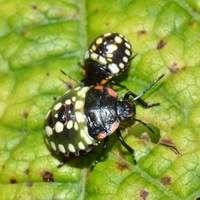insect: (44, 32, 157, 165)
